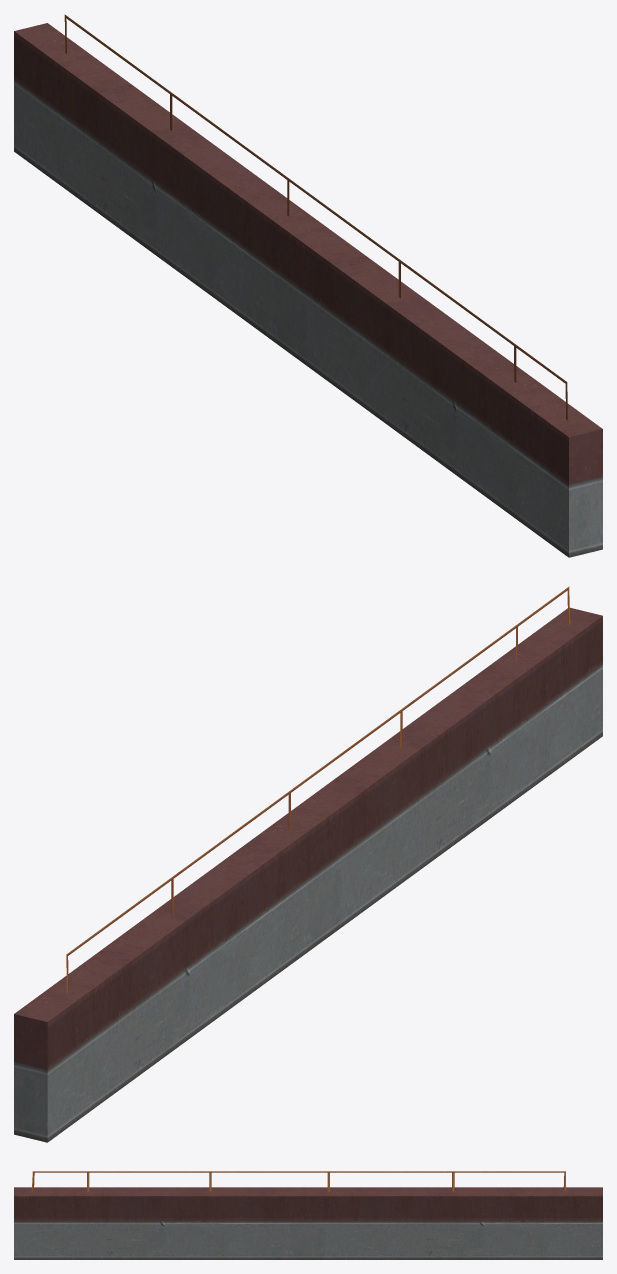
Rendered from Prop_Langan02_lod2.glb.
3 renders of one model, top to bottom at view 1: azimuth 30°, elevation 25°; view 2: azimuth 150°, elevation 25°; view 3: azimuth 270°, elevation 25°, orthographic. The views are drawn at different scales.
Parts seen in each view (by area): view 1: pvp_legionwar_langan02_lod2; view 2: pvp_legionwar_langan02_lod2; view 3: pvp_legionwar_langan02_lod2.
Part boxes in pixels (box(x1,y1,x2,y2)): pvp_legionwar_langan02_lod2: box(14, 14, 602, 557); pvp_legionwar_langan02_lod2: box(14, 586, 602, 1142); pvp_legionwar_langan02_lod2: box(14, 1171, 602, 1259).
Bounding box in the file's own units: 0.8827 × 3.94 × 24.94.
Materials: 1 (1 with a texture image).
